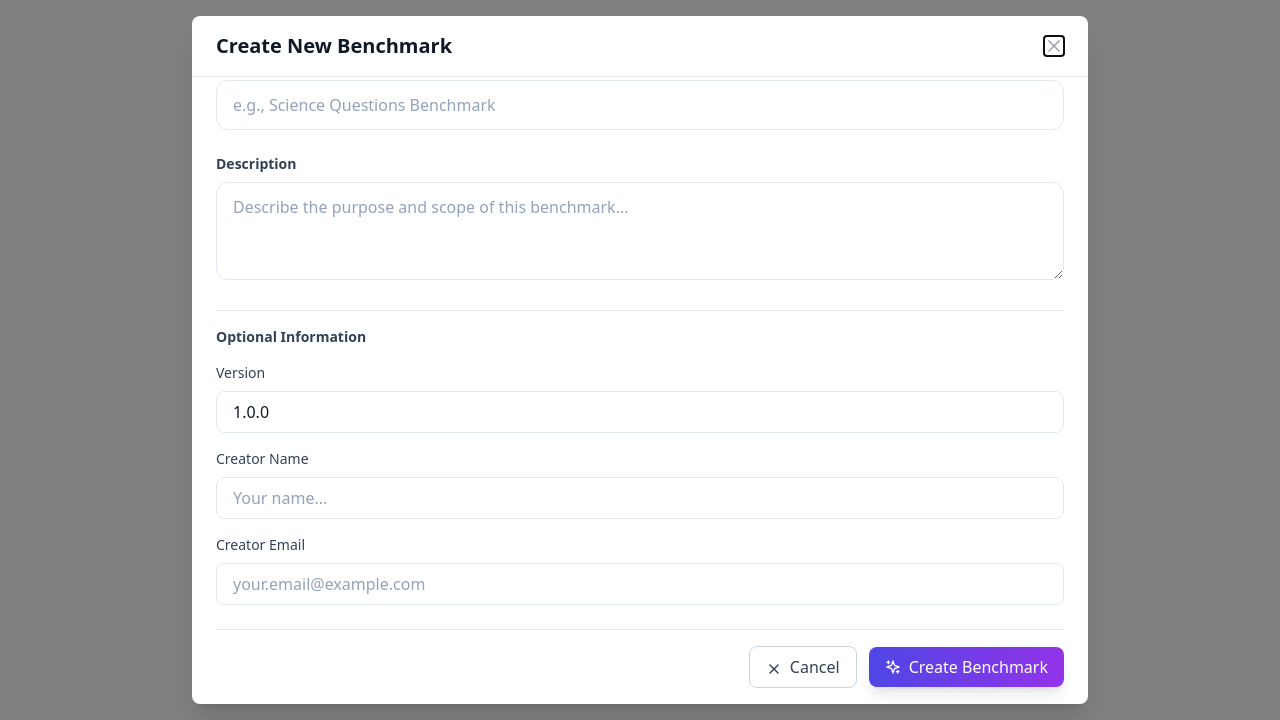
Test: NewBenchmarkModal › shows validation error when submitting without dataset name
(page scrolled)
Click the button "Create Benchmark".
click(966, 667)  # box x1=869 y1=647 x2=1064 y2=687
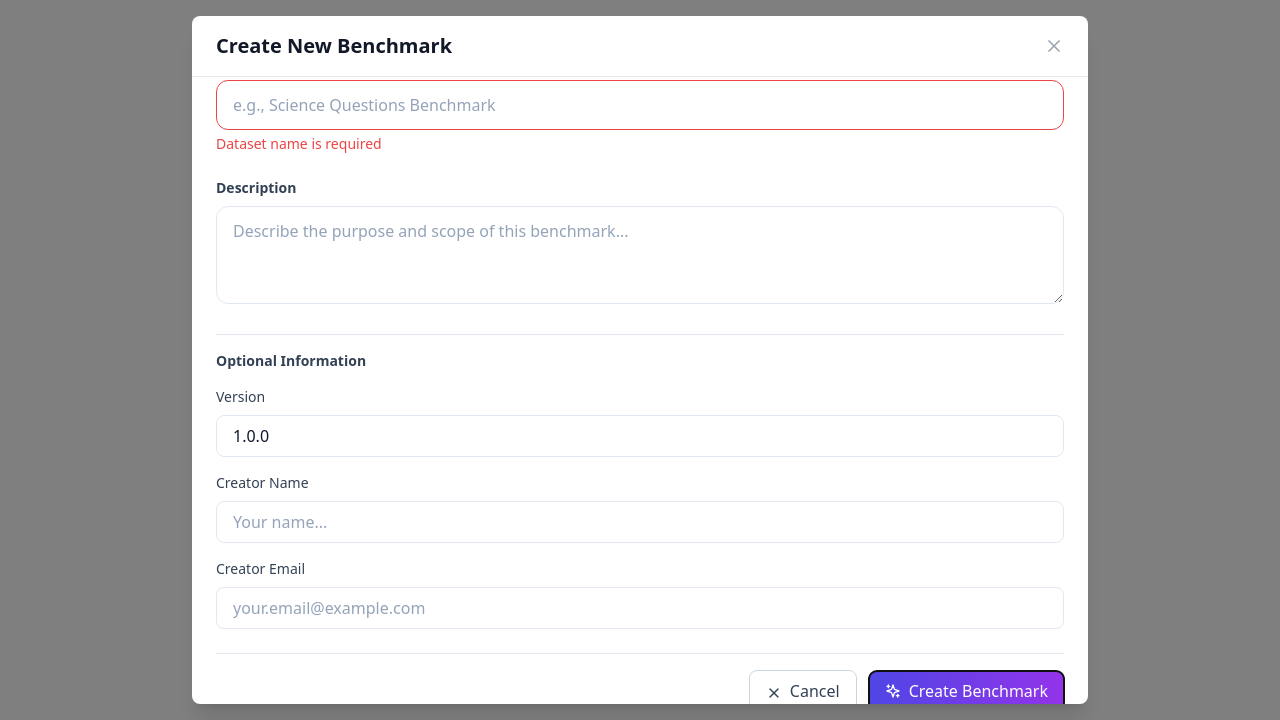
Check: the text "Dataset name is required" is shown, box x1=216 y1=134 x2=382 y2=153
